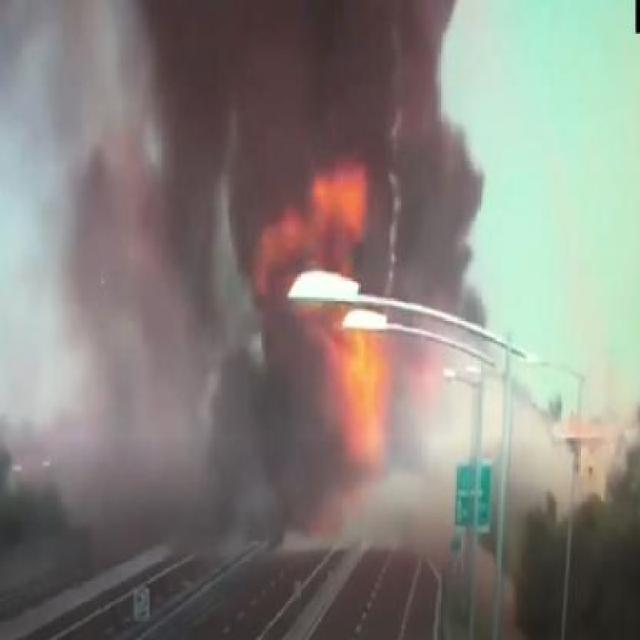Fire: (245, 156, 398, 490)
